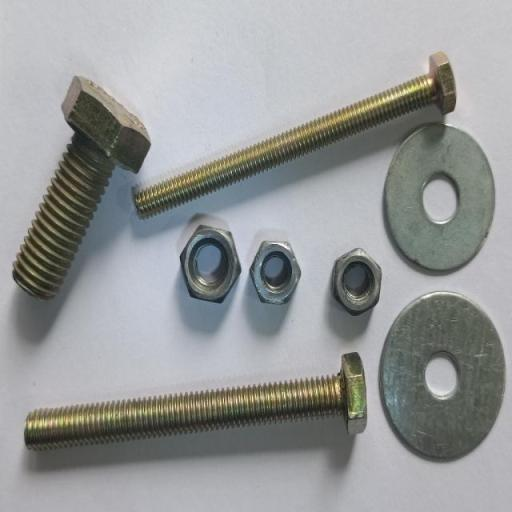Bolt: (131, 51, 459, 221), (23, 351, 370, 453), (11, 75, 153, 301)
Nut: (178, 217, 242, 305), (248, 228, 303, 306), (330, 246, 384, 319)
Washer: (378, 292, 507, 464), (381, 122, 497, 275)
